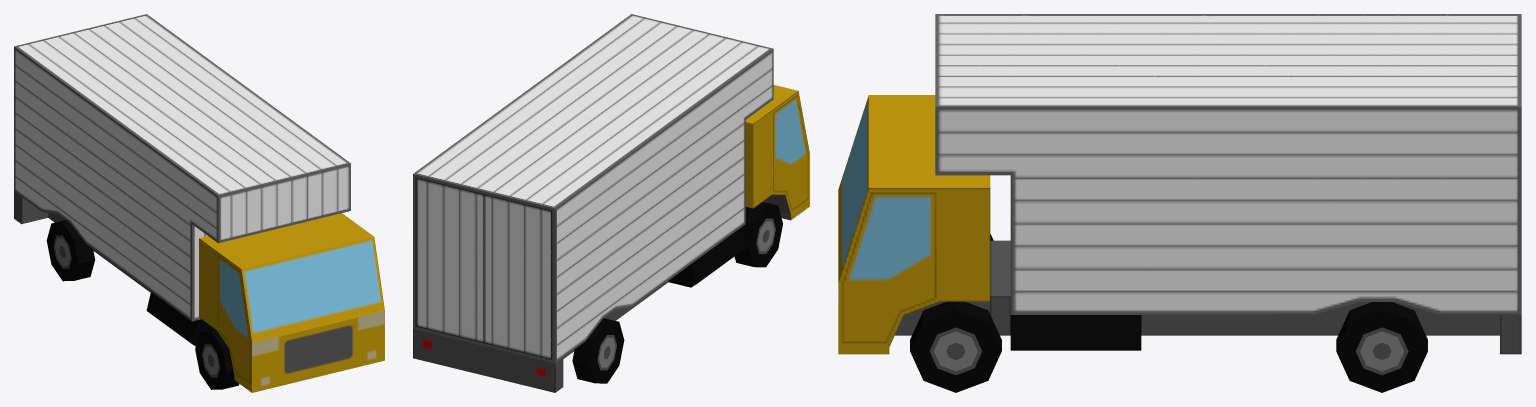
The model's file is box-truck.glb.
The picture shows the model from 3 angles, left to right: view 1: azimuth 30°, elevation 25°; view 2: azimuth 150°, elevation 25°; view 3: azimuth 270°, elevation 25°; orthographic projection. The views are drawn at different scales.
Visible parts, largest first — view 1: Cube.002, Low poly box truck, wheel_rr, wheel_fr; view 2: Cube.002, Low poly box truck, wheel_rr, wheel_fr; view 3: Cube.002, Low poly box truck, wheel_fl, wheel_rl.
Part boxes in pixels (<box>): Cube.002: <box>14,14,350,321</box>; Low poly box truck: <box>14,191,384,392</box>; wheel_rr: <box>46,220,95,281</box>; wheel_fr: <box>195,328,239,389</box>; Cube.002: <box>413,14,773,363</box>; Low poly box truck: <box>413,85,809,392</box>; wheel_rr: <box>572,318,624,383</box>; wheel_fr: <box>734,202,782,267</box>; Cube.002: <box>935,14,1521,314</box>; Low poly box truck: <box>838,95,1521,354</box>; wheel_fl: <box>910,301,1001,392</box>; wheel_rl: <box>1336,302,1427,392</box>.
Bounding box in the file's own units: 1.93 × 2.77 × 6.
3 materials, 3 textured.
